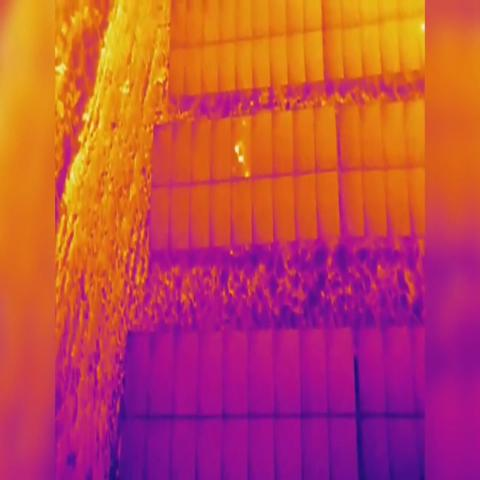fault: (237, 154, 245, 163), (244, 170, 250, 180), (232, 146, 238, 154)
